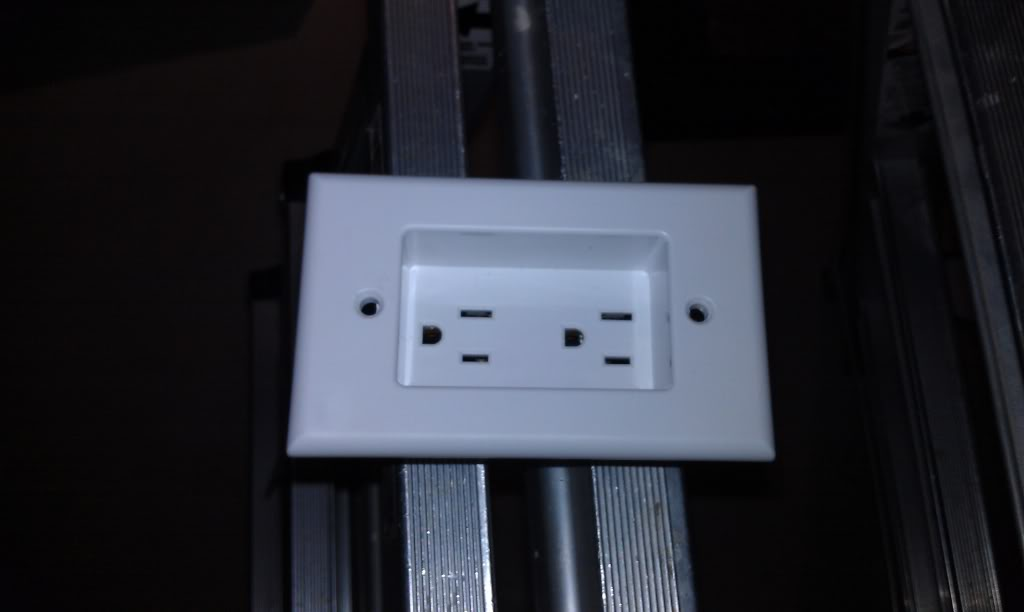outlet: (417, 295, 500, 373), (561, 298, 644, 374)
